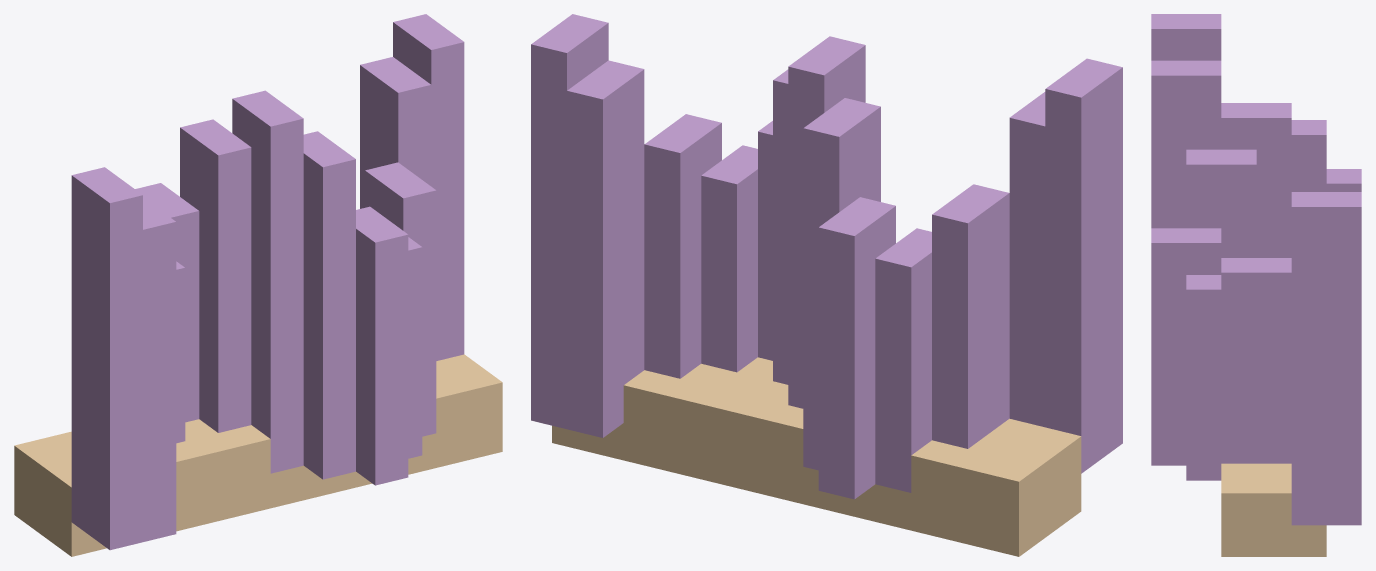
File: alien-biosphere-ribbon-fungus-8e7fb7d6__22730.glb
3 views of the same model, side by side, from view 1: azimuth 30°, elevation 25°; view 2: azimuth 150°, elevation 25°; view 3: azimuth 270°, elevation 25° (orthographic). The views are drawn at different scales.
Parts seen in each view (by area): view 1: ribbon-fungus; view 2: ribbon-fungus; view 3: ribbon-fungus.
Part boxes in pixels (x1,y1,x2,y2): ribbon-fungus: [14, 14, 502, 556]; ribbon-fungus: [531, 14, 1122, 556]; ribbon-fungus: [1151, 14, 1361, 556].
Bounding box in the file's own units: 1.82 × 1.54 × 0.8399.
